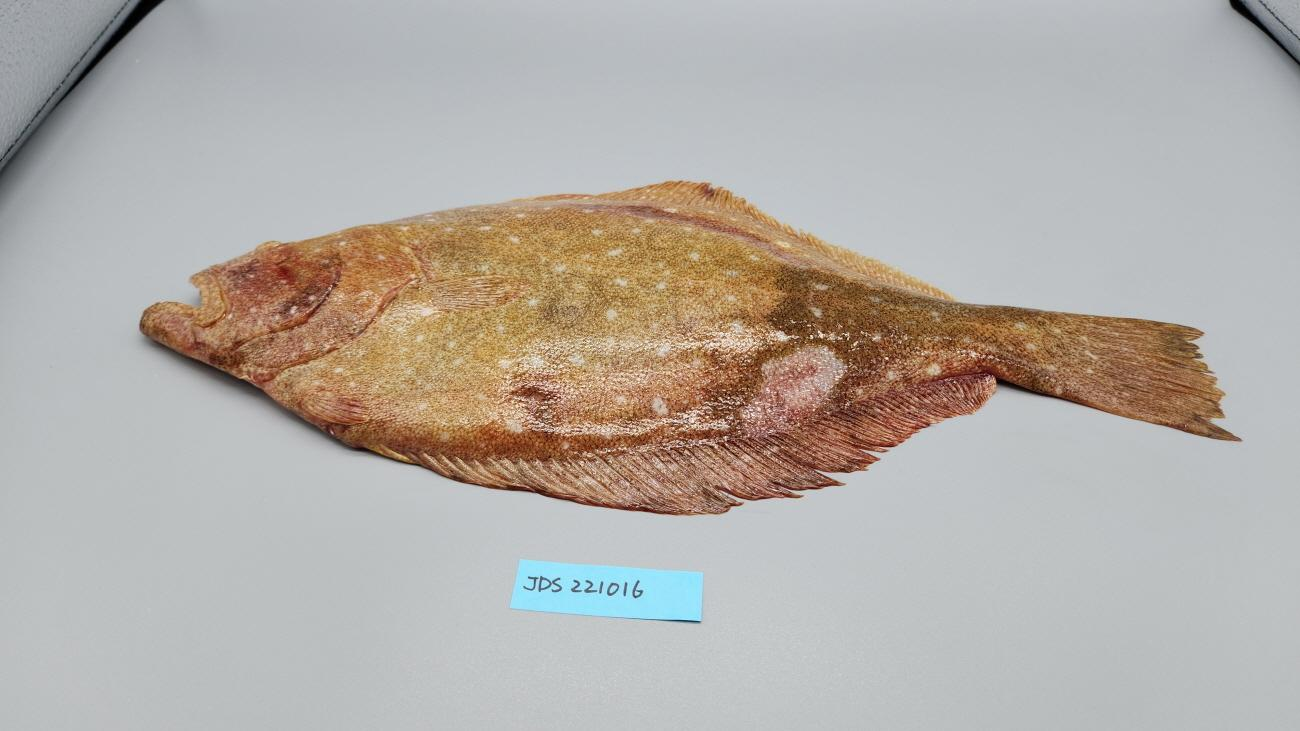POOUN: (139, 180, 1243, 516)
